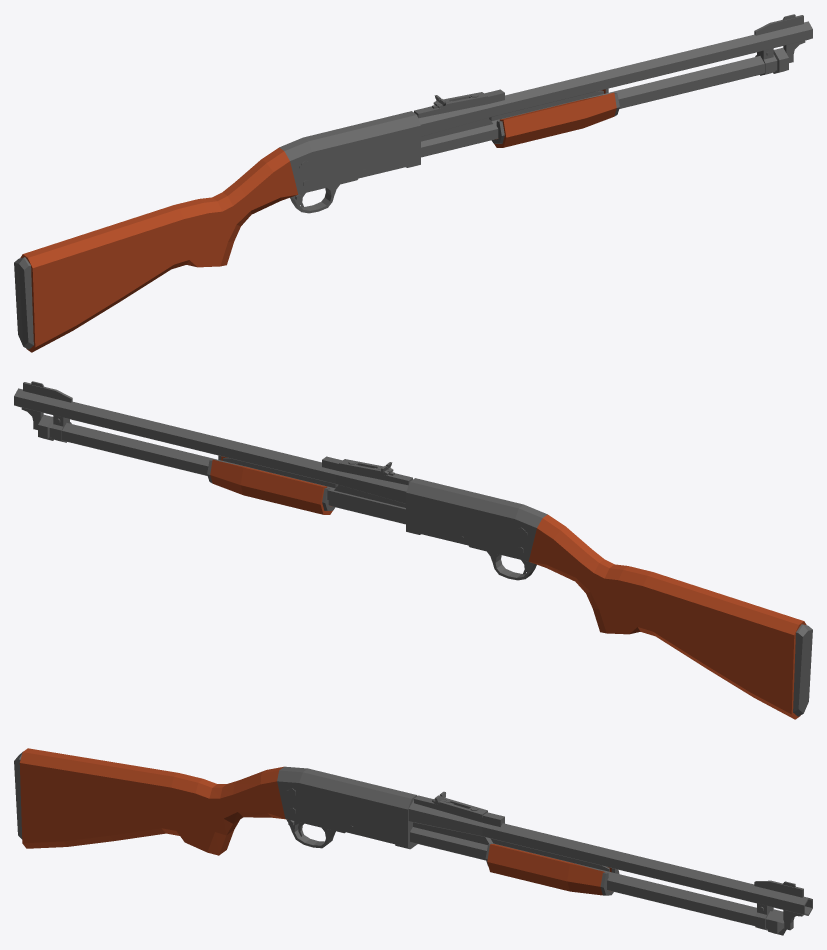
File: shotgun.glb
3 renders of one model, top to bottom at view 1: azimuth 30°, elevation 25°; view 2: azimuth 150°, elevation 25°; view 3: azimuth 330°, elevation 25°, orthographic.
Parts seen in each view (by area): view 1: shotgun, rack; view 2: shotgun, rack; view 3: shotgun, rack.
Boxes of the visible parts, box(x1,y1,x2,y2) form: shotgun: box(14, 14, 812, 352); rack: box(489, 88, 619, 147); shotgun: box(14, 381, 812, 719); rack: box(207, 455, 337, 514); shotgun: box(14, 748, 812, 935); rack: box(485, 840, 619, 895).
Size of the model in its own units: 8.62 by 1.59 by 0.3596.
